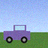vehicle: (4, 25, 30, 43)
